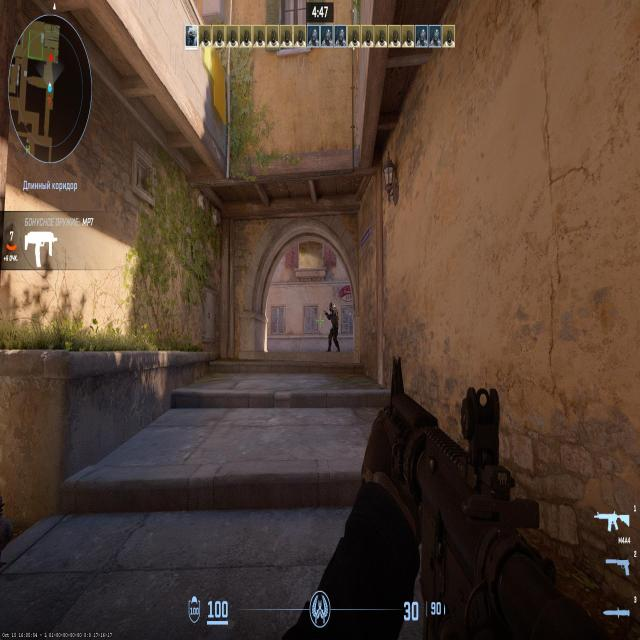CT: (326, 301, 340, 350)
CT_heat: (328, 304, 334, 311)
